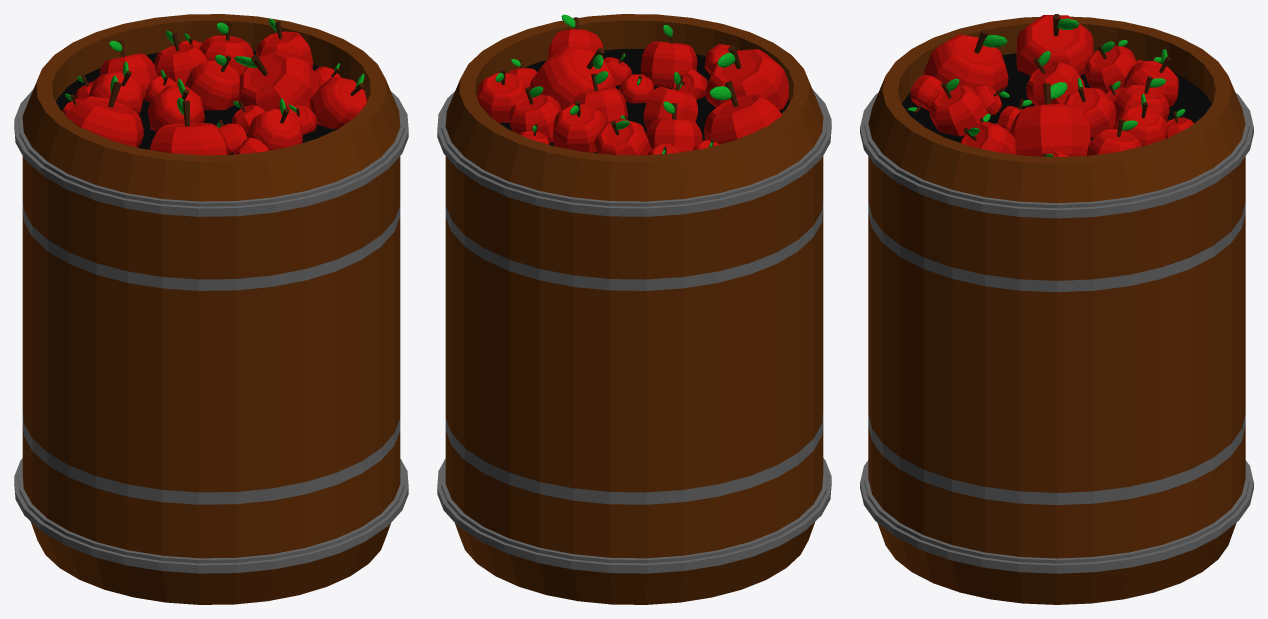
Rendered from AppleBarrel.fbx.
The picture shows the model from 3 angles, left to right: view 1: azimuth 30°, elevation 25°; view 2: azimuth 150°, elevation 25°; view 3: azimuth 270°, elevation 25°; orthographic projection.
Visible parts, largest first — view 1: Cylinder, Icosphere.015; view 2: Cylinder, Icosphere.015; view 3: Cylinder, Icosphere.015.
Part boxes in pixels (bbox=[...]): Cylinder: bbox=[14, 14, 408, 604]; Icosphere.015: bbox=[62, 18, 367, 155]; Cylinder: bbox=[437, 14, 831, 604]; Icosphere.015: bbox=[477, 14, 789, 155]; Cylinder: bbox=[860, 16, 1253, 604]; Icosphere.015: bbox=[907, 14, 1193, 157].
Bounding box in the file's own units: 209 × 275 × 209.
